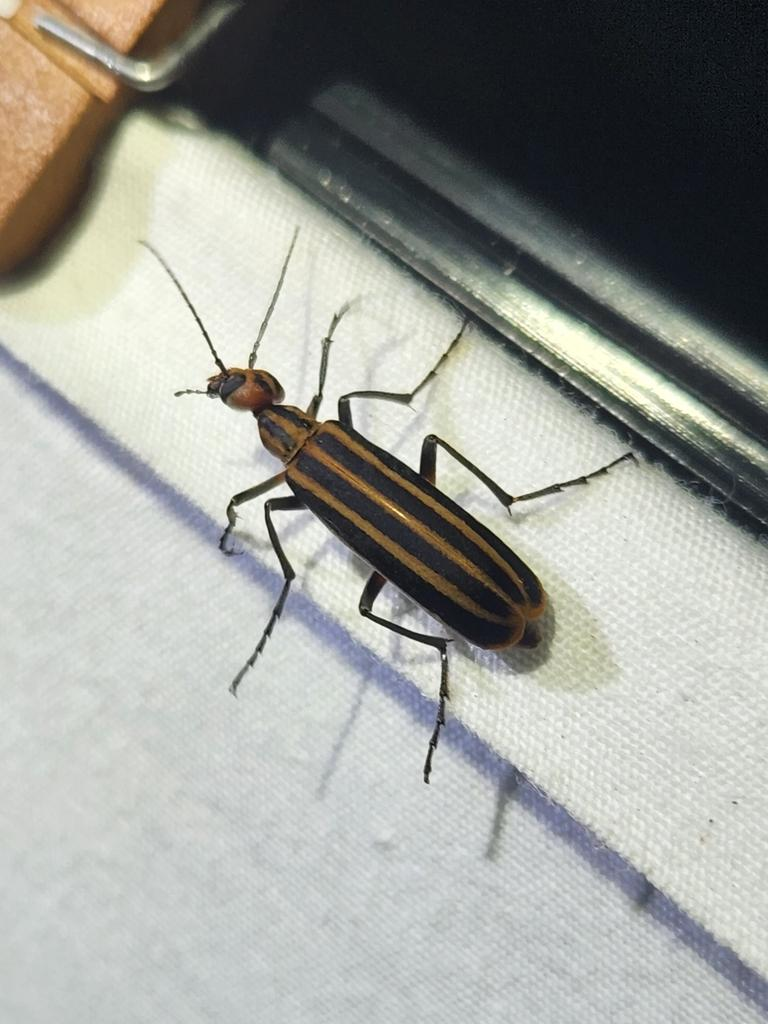blister_beetle: (97, 180, 694, 847)
